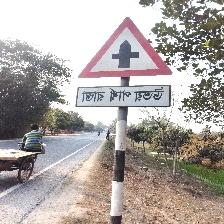Crossroad: (75, 16, 174, 109)
